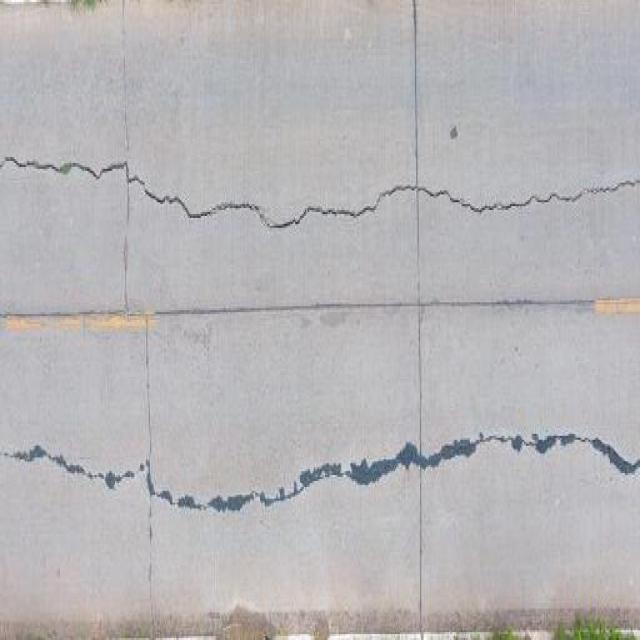Crack: (0, 118, 640, 267)
